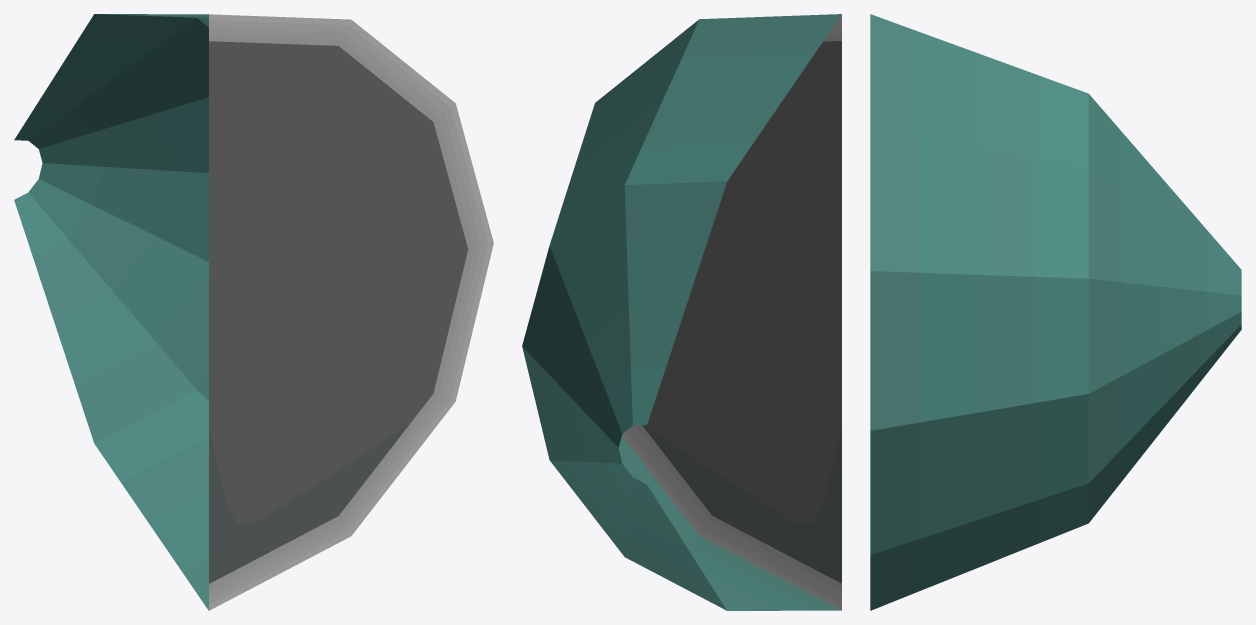
File: pz_native_lighting_indoor_02_72_wall_lamp.obj
3 renders of one model, left to right at view 1: azimuth 30°, elevation 25°; view 2: azimuth 150°, elevation 25°; view 3: azimuth 270°, elevation 25°, orthographic. The views are drawn at different scales.
Parts seen in each view (by area): view 1: pz_native_lighting_indoor_02_72_wall_lamp; view 2: pz_native_lighting_indoor_02_72_wall_lamp; view 3: pz_native_lighting_indoor_02_72_wall_lamp.
Part boxes in pixels (bbox=[...]): pz_native_lighting_indoor_02_72_wall_lamp: bbox=[14, 14, 493, 610]; pz_native_lighting_indoor_02_72_wall_lamp: bbox=[522, 14, 841, 610]; pz_native_lighting_indoor_02_72_wall_lamp: bbox=[870, 14, 1241, 610].
Size of the model in its own units: 0.2245 by 0.4491 by 0.2658.
Materials: 1 (1 with a texture image).
